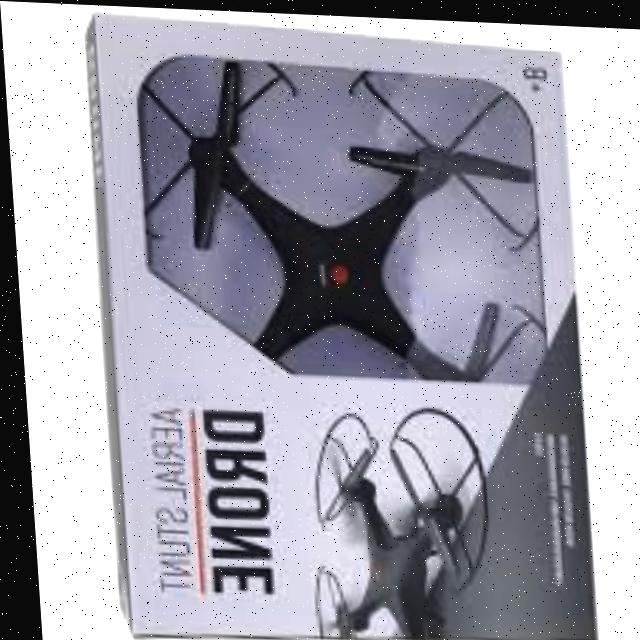drone: (120, 47, 554, 446), (281, 397, 494, 640)
